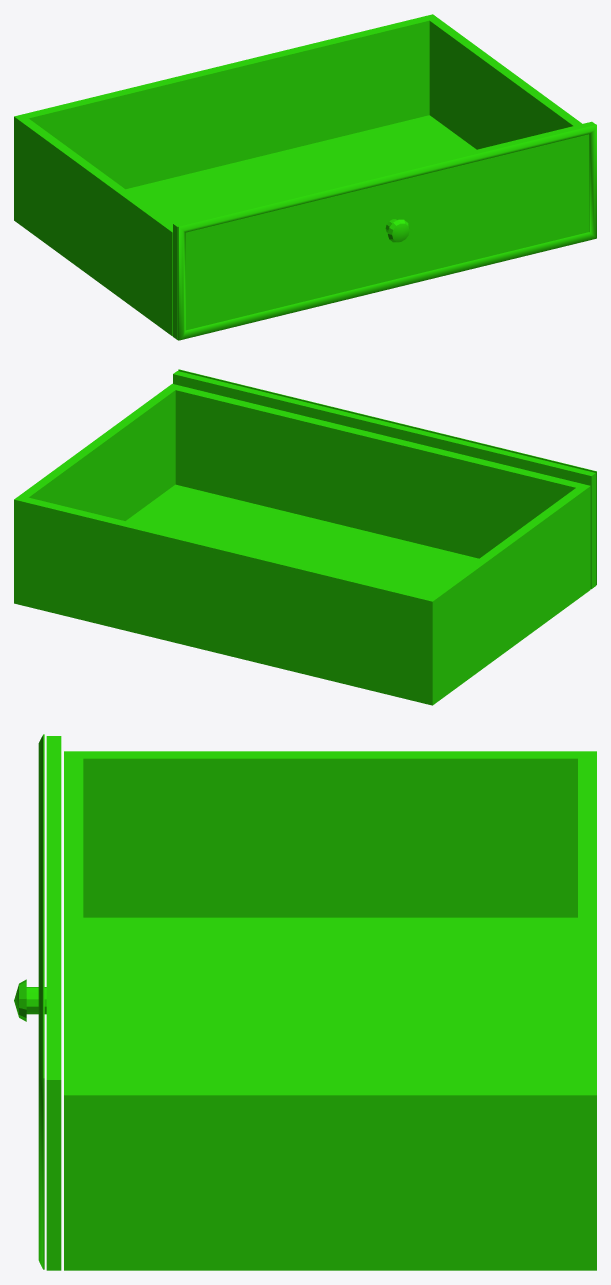
Rendered from Cupboard_04_Drawer.fbx.
The picture shows the model from 3 angles, top to bottom: view 1: azimuth 30°, elevation 25°; view 2: azimuth 150°, elevation 25°; view 3: azimuth 270°, elevation 25°; orthographic projection. The views are drawn at different scales.
Parts seen in each view (by area): view 1: Cupboard_04_Drawer; view 2: Cupboard_04_Drawer; view 3: Cupboard_04_Drawer.
Boxes of the visible parts, <box> form: Cupboard_04_Drawer: <box>14,14,596,340</box>; Cupboard_04_Drawer: <box>14,369,596,705</box>; Cupboard_04_Drawer: <box>14,734,596,1270</box>.
Bounding box in the file's own units: 73.12 × 19.02 × 52.36.
